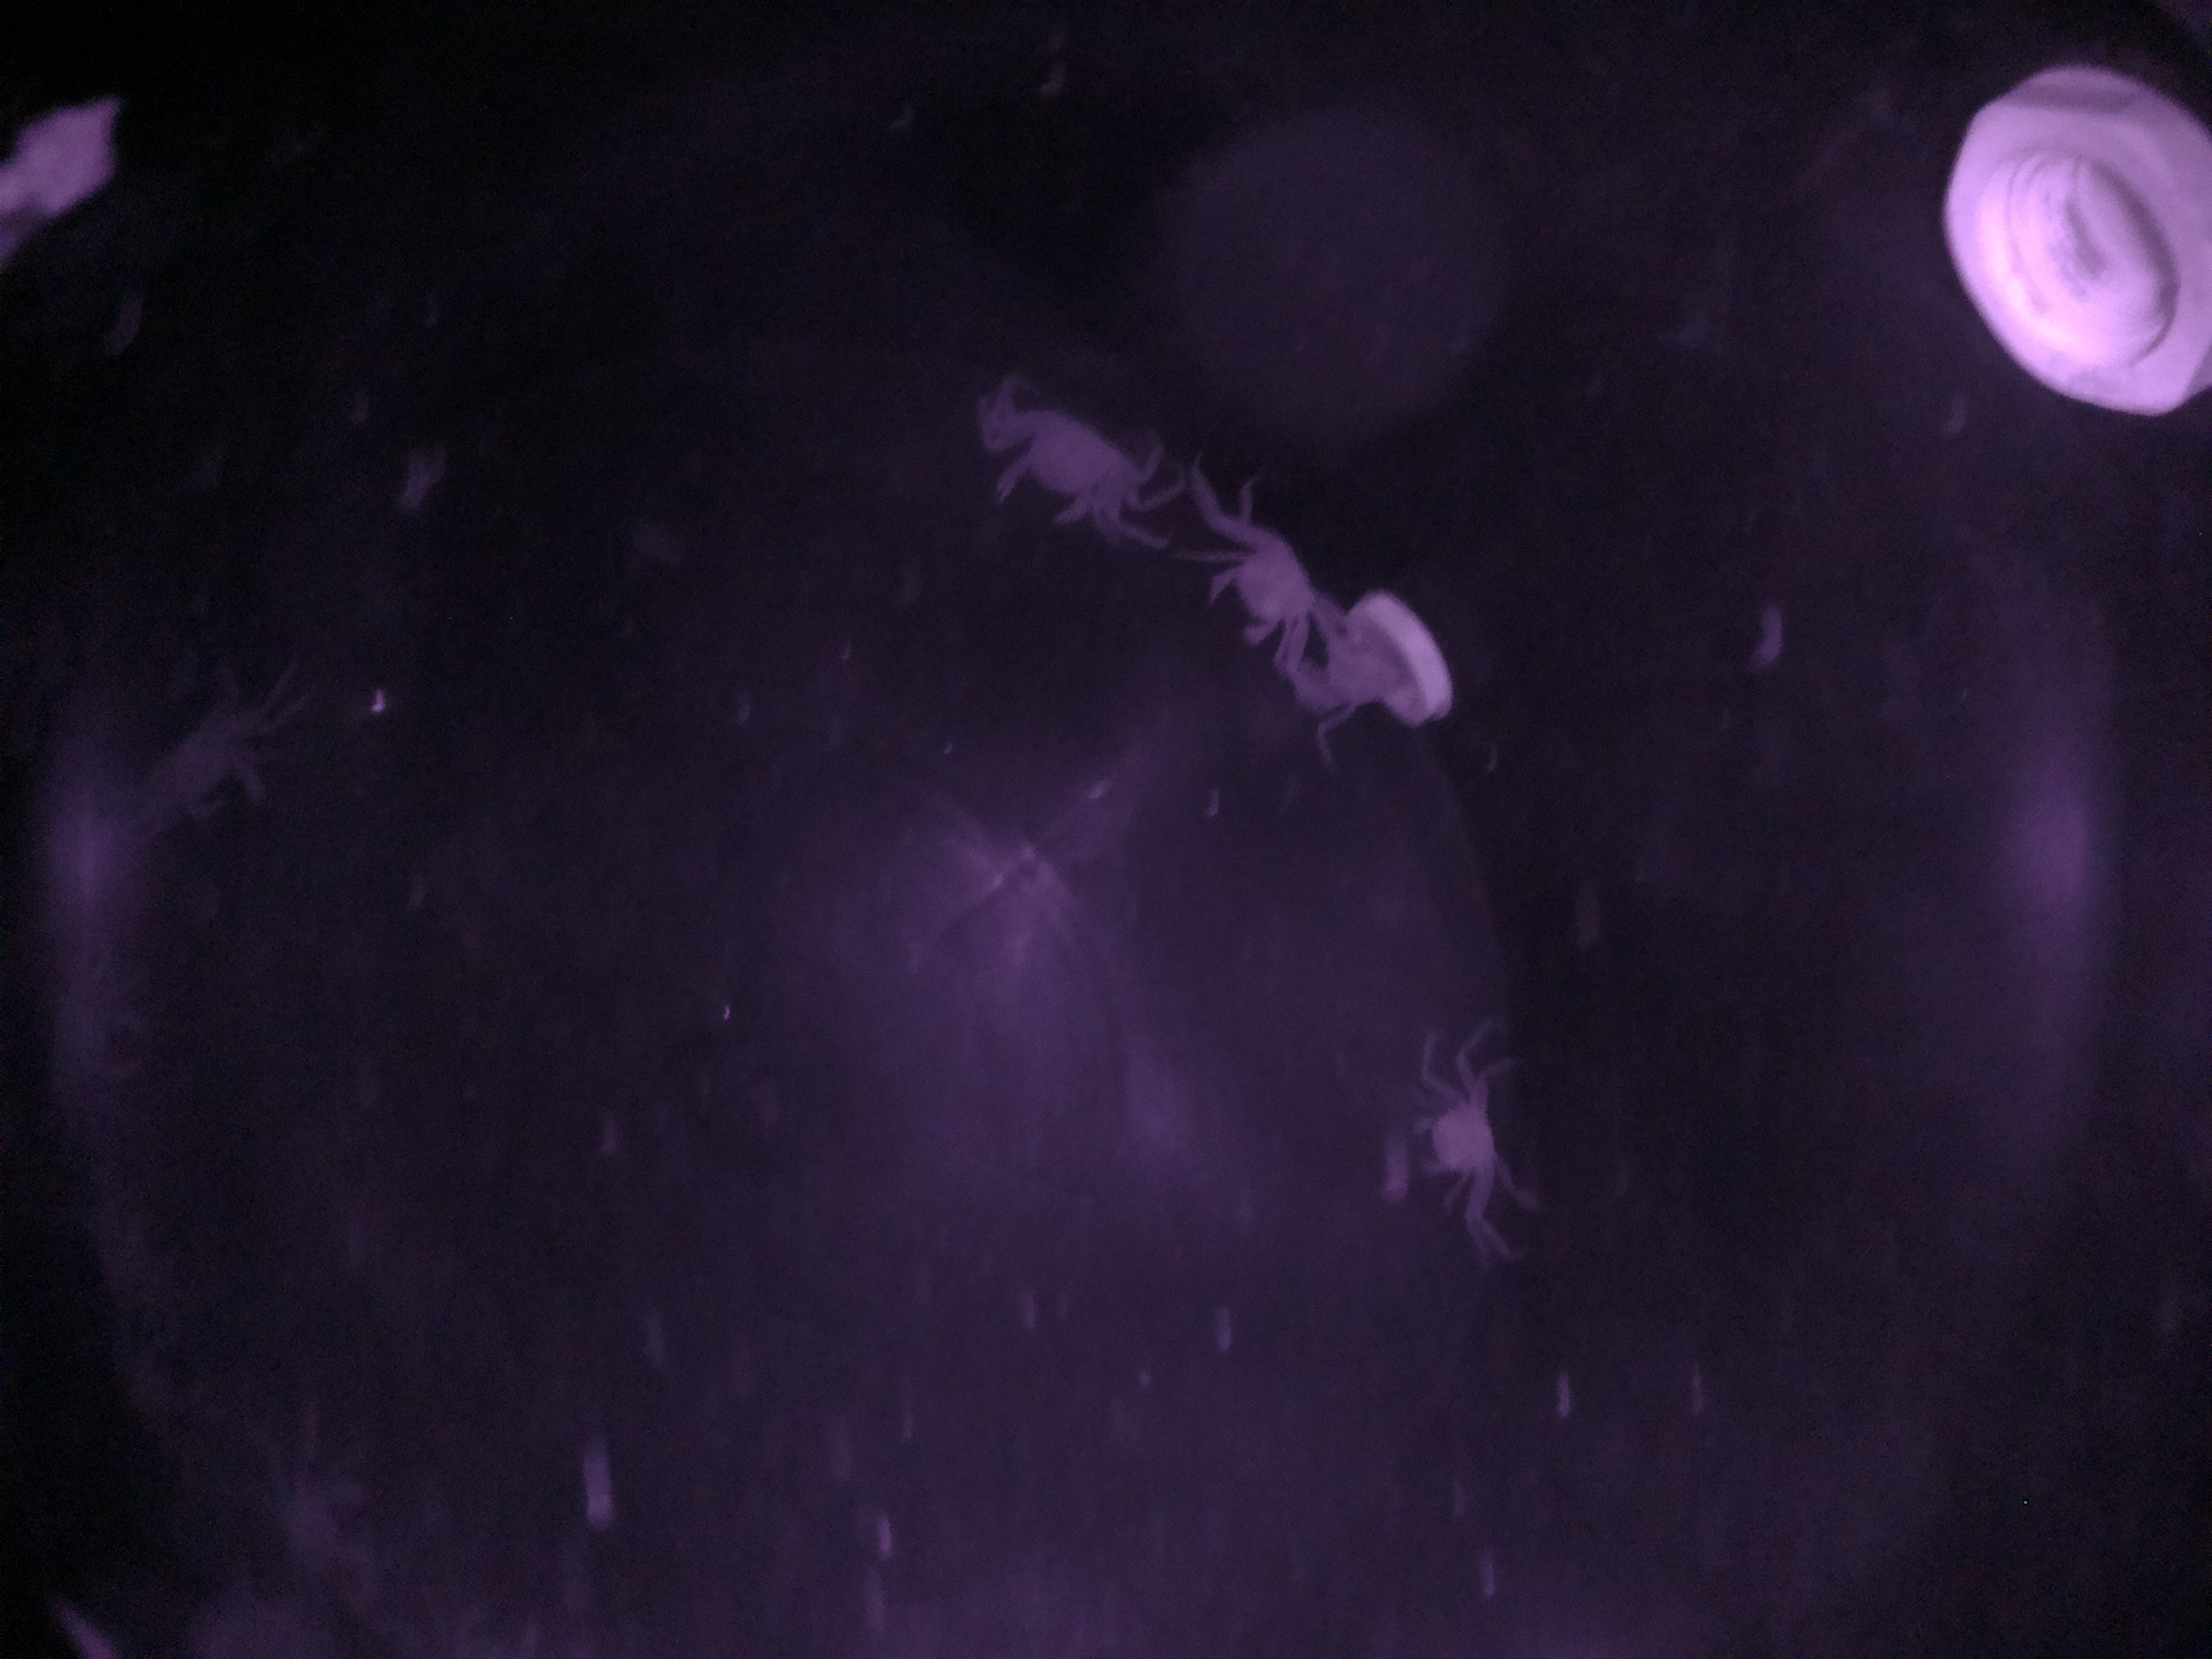Crab: (956, 368, 1176, 566), (1184, 471, 1359, 681)
